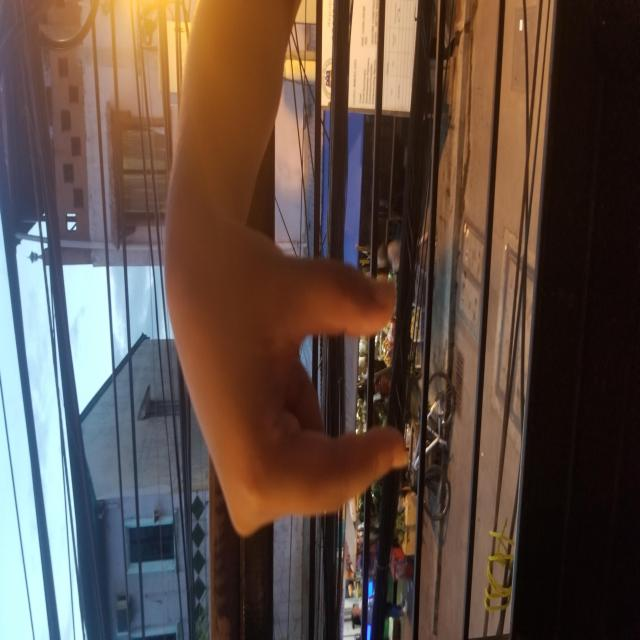Q: (100, 163, 464, 589)
